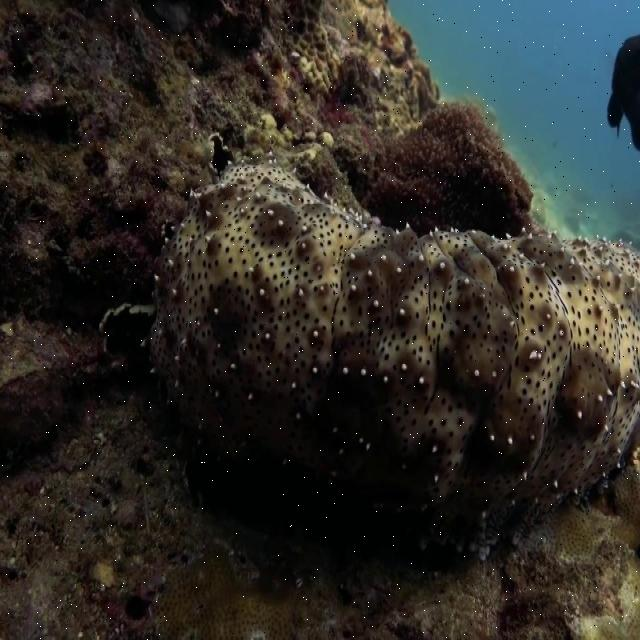fish: (605, 35, 639, 153)
reefs: (128, 161, 639, 581)
sea-floor: (0, 0, 639, 637)
